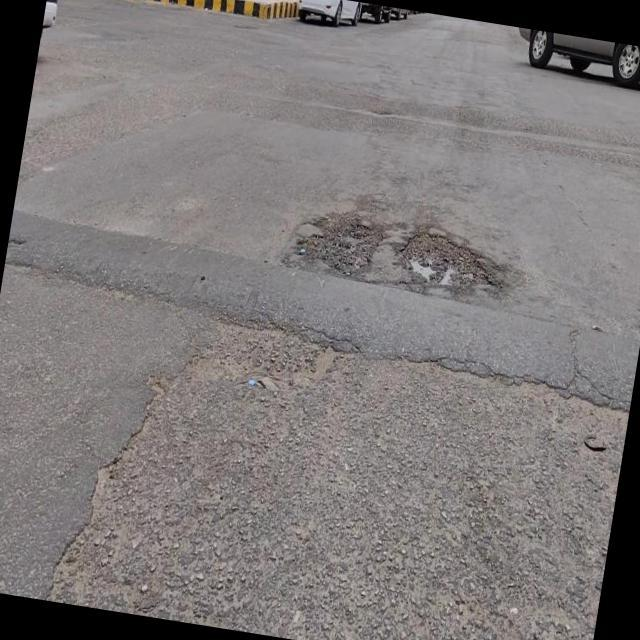Pothole: (399, 231, 497, 296), (299, 210, 385, 273)
